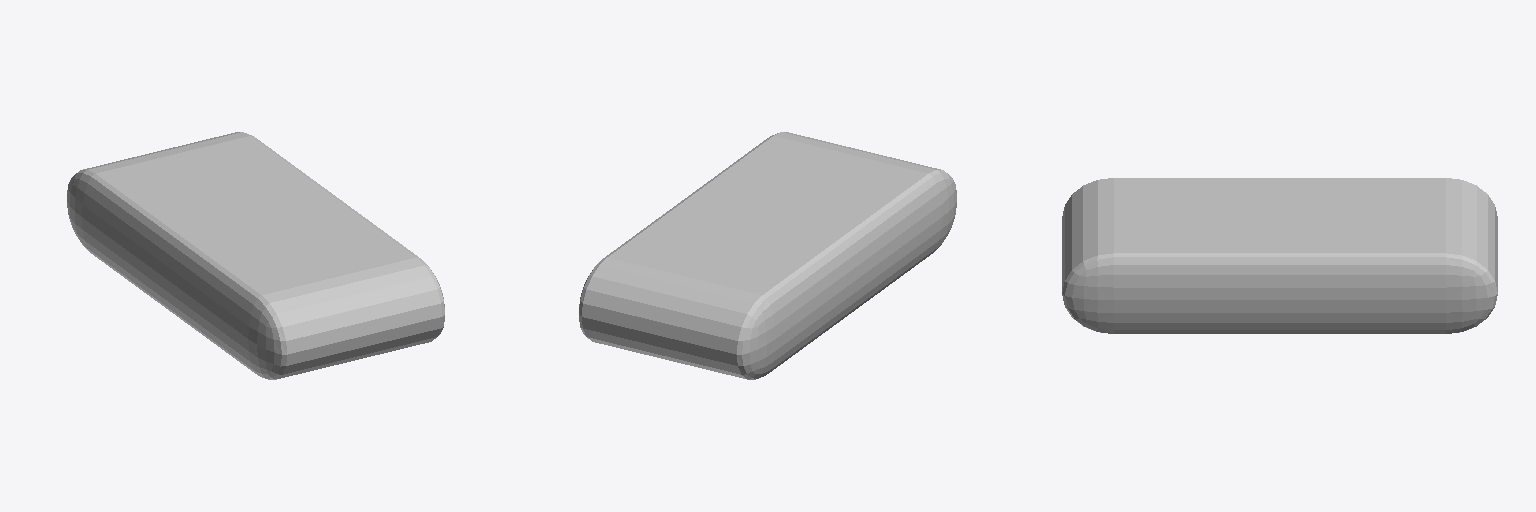
File: pillow.obj
3 views of the same model, side by side, from view 1: azimuth 30°, elevation 25°; view 2: azimuth 150°, elevation 25°; view 3: azimuth 270°, elevation 25° (orthographic).
Visible parts, largest first — view 1: pillow; view 2: pillow; view 3: pillow.
Boxes of the visible parts, x1=… form: pillow: x1=67, y1=132, x2=444, y2=379; pillow: x1=579, y1=132, x2=956, y2=379; pillow: x1=1062, y1=178, x2=1497, y2=333.
Bounding box in the file's own units: 0.1929 × 0.082 × 0.4005.